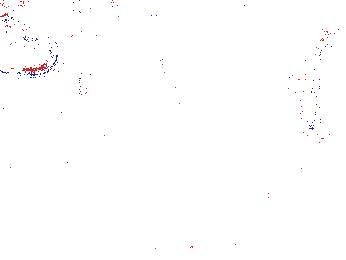moon jellyfish: (77, 54, 180, 120), (83, 2, 158, 77), (298, 28, 346, 141), (1, 11, 60, 75)
